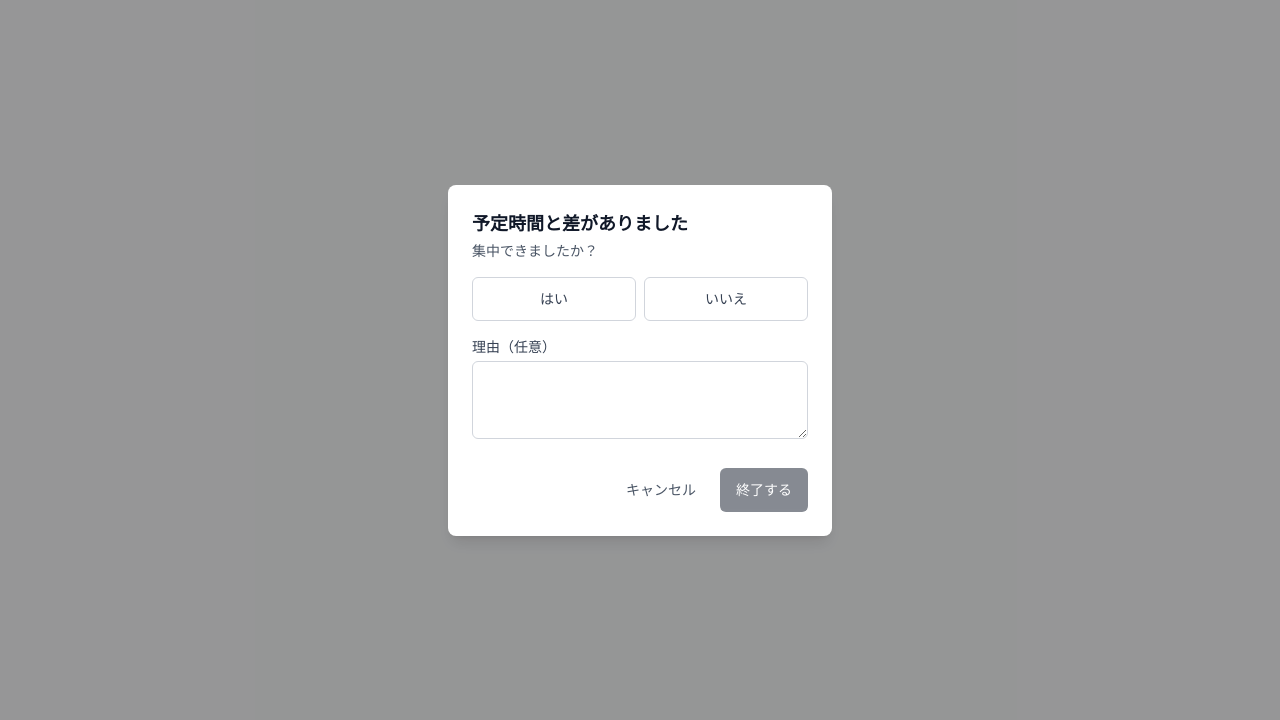
DeviationModal › 「はい」を選ぶと終了するボタンが有効になる
The image size is (1280, 720).
Click the button "はい" at (554,298), box left=472, top=276, right=636, bottom=320
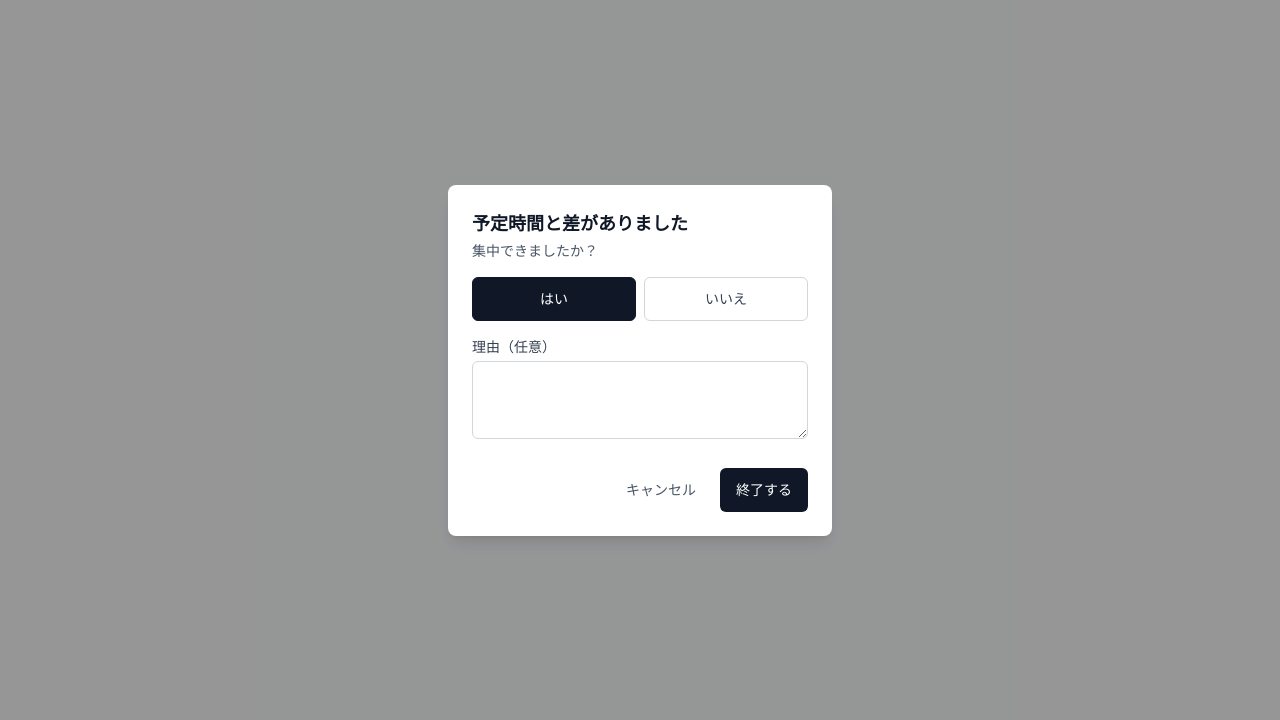
Now the button "終了する" is enabled, box left=720, top=468, right=808, bottom=512
